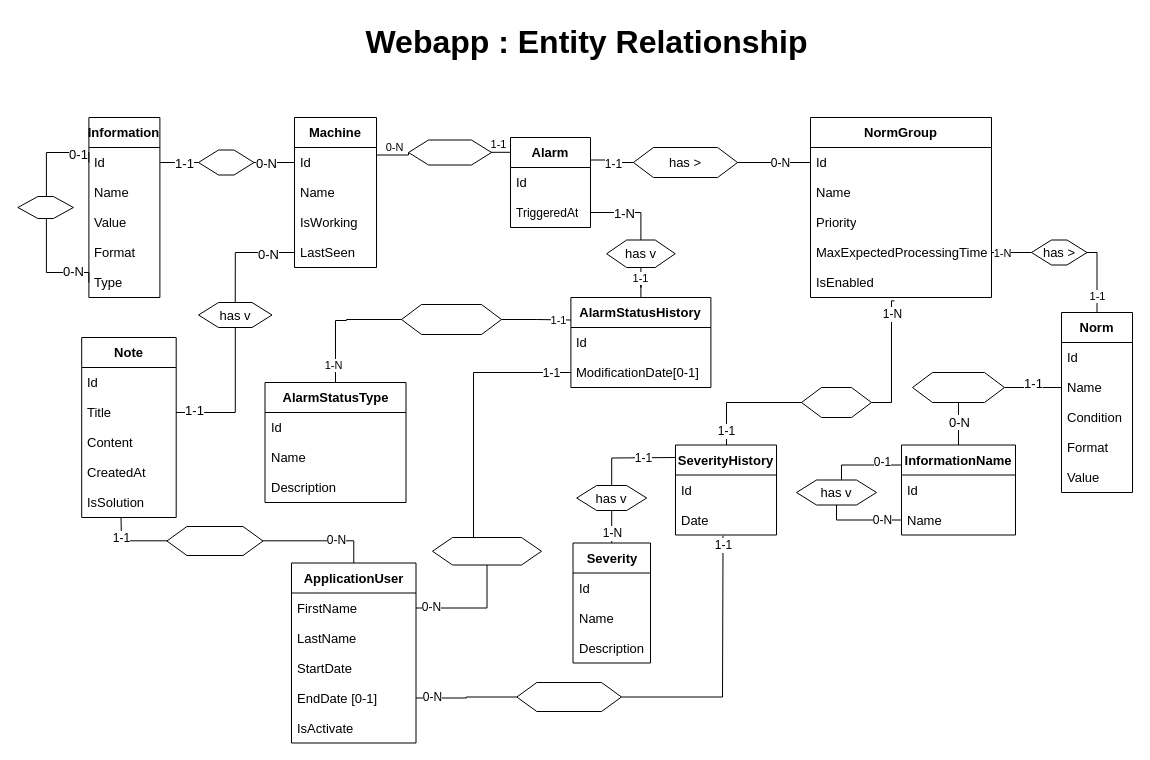
Image size: 1150x760. Some labels were removed from this diagram. The centre of each missing label's shape, as x and y in pixels:
"< has" goes at (x=226, y=162).
"< is linked to" goes at (x=450, y=152).
"has <" goes at (x=836, y=402).
"has ^" goes at (x=45, y=207).
"is defined by <" goes at (x=569, y=697).
"is edited by v" goes at (x=487, y=550).
"is linked to v" goes at (x=958, y=387).
"is refered to <" goes at (x=451, y=319).
"is written by >" goes at (x=214, y=541).
